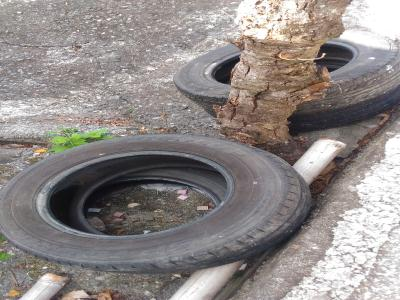tire: (2, 132, 315, 276), (172, 27, 400, 132)
